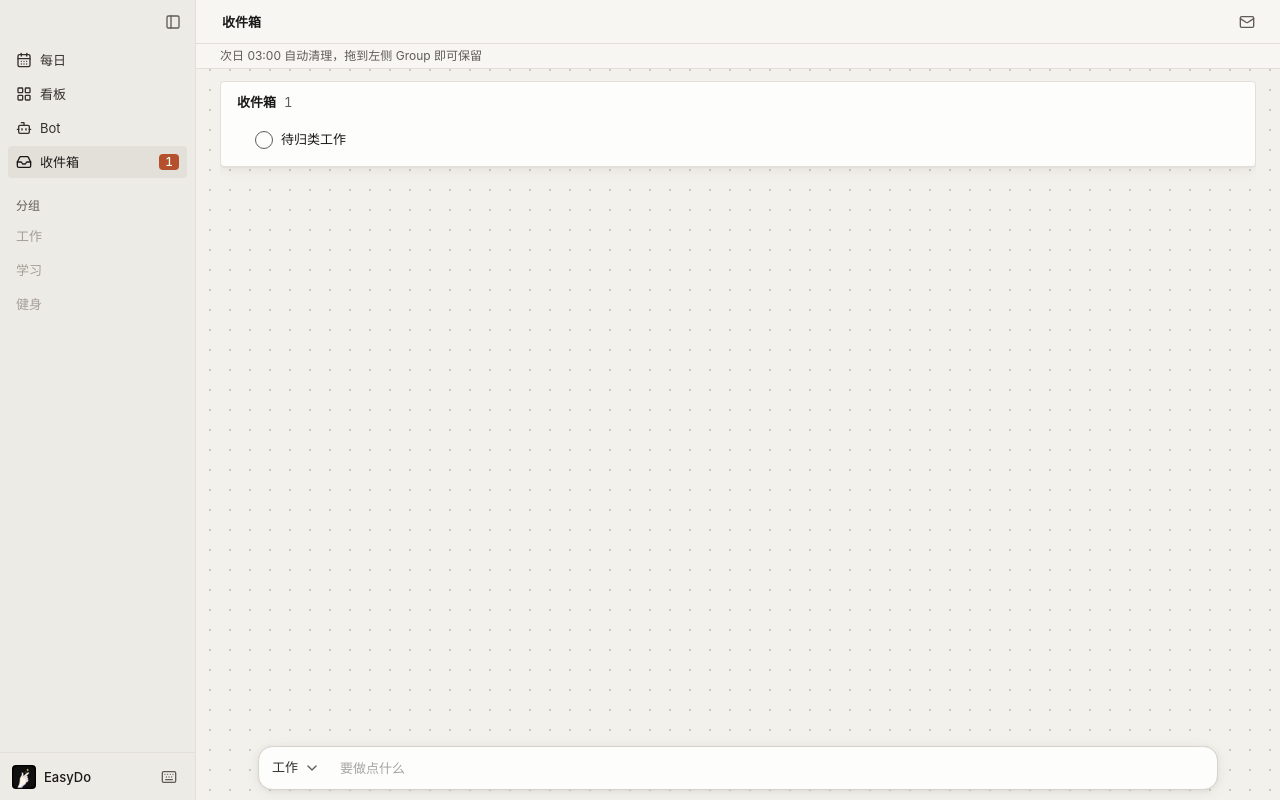
Test: BoardPage › returns from the inbox to the board when clicking 看板 in the sidebar
Expected: the text "待归类工作" is shown, [281, 131, 346, 147]
Step 1. Click the button "看板" → click(98, 94), box [8, 78, 187, 110]
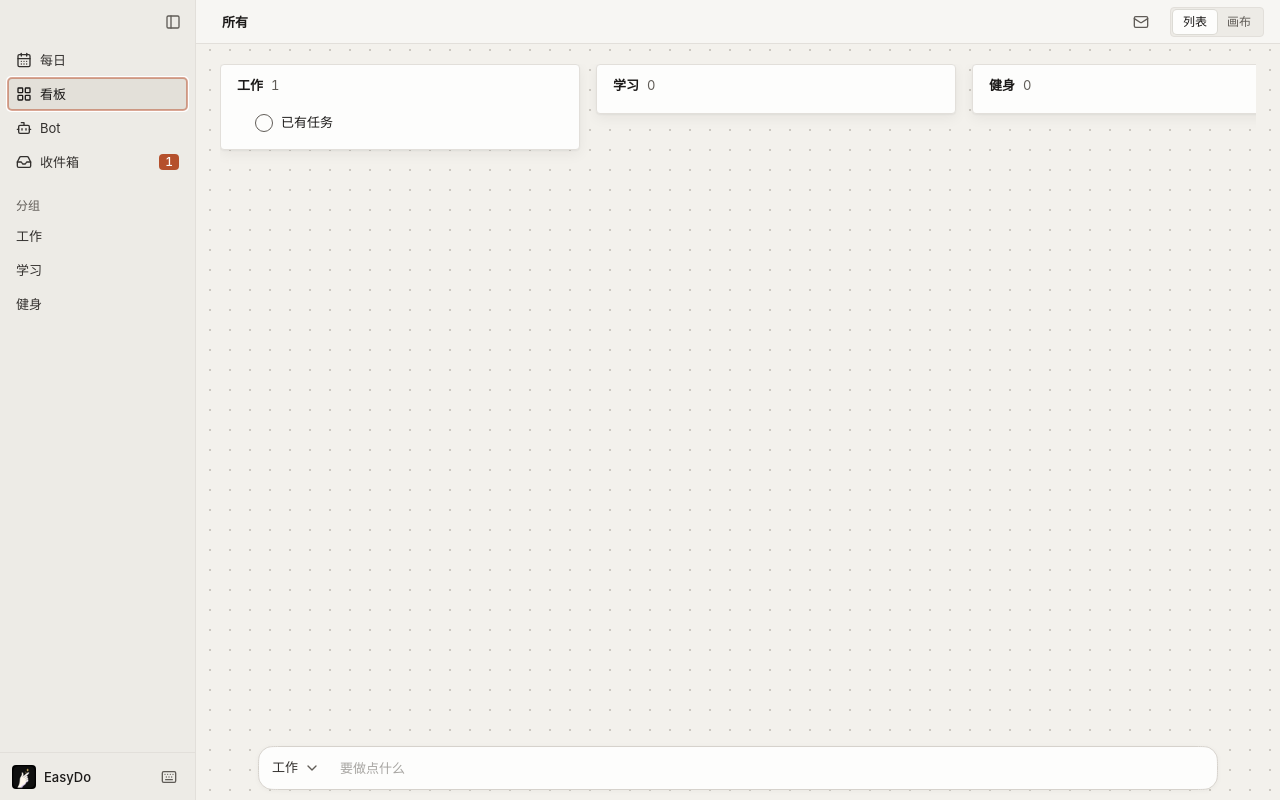
Expected: the text "已有任务" is shown, [281, 114, 333, 130]
Expected: the button "待归类工作" is gone
